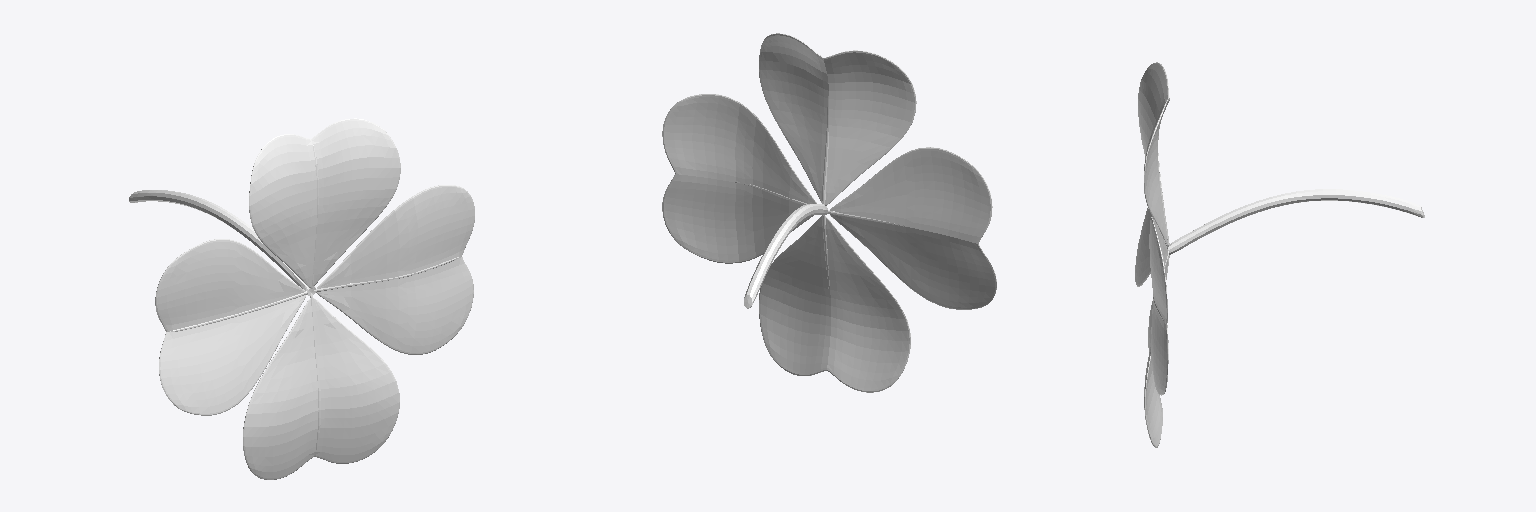
Rendered from leaf_2.obj.
3 renders of one model, left to right at view 1: azimuth 30°, elevation 25°; view 2: azimuth 150°, elevation 25°; view 3: azimuth 270°, elevation 25°, orthographic.
Parts seen in each view (by area): view 1: Object.1; view 2: Object.1; view 3: Object.1.
Part boxes in pixels (left/top/right/bottom): Object.1: left=129, top=118, right=474, bottom=479; Object.1: left=662, top=33, right=996, bottom=392; Object.1: left=1135, top=62, right=1424, bottom=447.
Size of the model in its own units: 106 by 106 by 81.65.